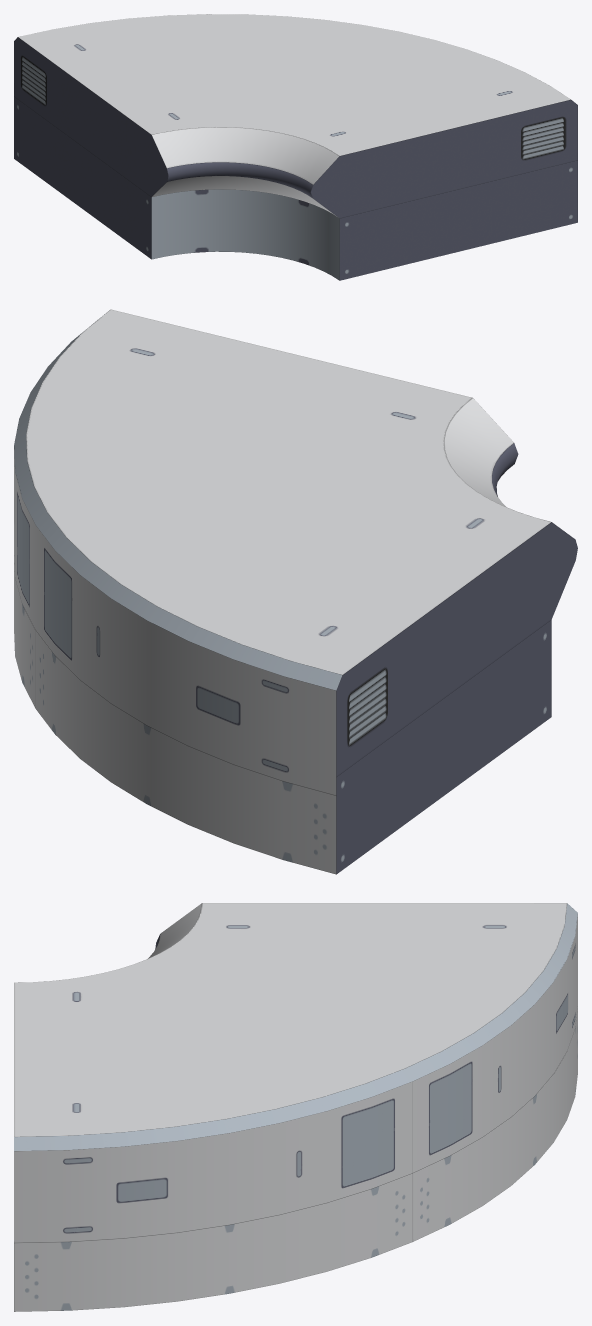
The model's file is Desktop_Angle_01.FBX.
The picture shows the model from 3 angles, top to bottom: view 1: azimuth 30°, elevation 25°; view 2: azimuth 150°, elevation 25°; view 3: azimuth 270°, elevation 25°; orthographic projection. The views are drawn at different scales.
Parts seen in each view (by area): view 1: Desktop_Angle_01; view 2: Desktop_Angle_01; view 3: Desktop_Angle_01.
Part boxes in pixels (left/top/right/bottom): Desktop_Angle_01: left=14, top=14, right=577, bottom=280; Desktop_Angle_01: left=14, top=309, right=577, bottom=874; Desktop_Angle_01: left=14, top=903, right=577, bottom=1311.
Size of the model in its own units: 3 by 1 by 3.
Materials: 2 (2 with a texture image).
